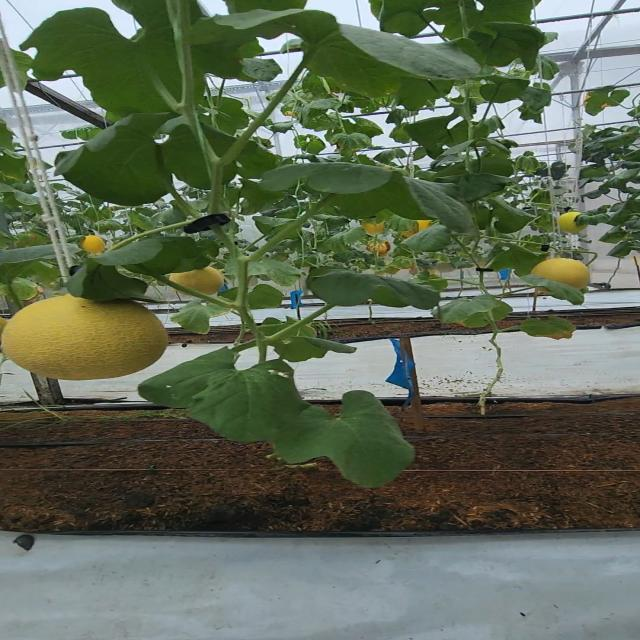Front-melon: (7, 298, 174, 382)
Rear-melon: (535, 258, 596, 290)
